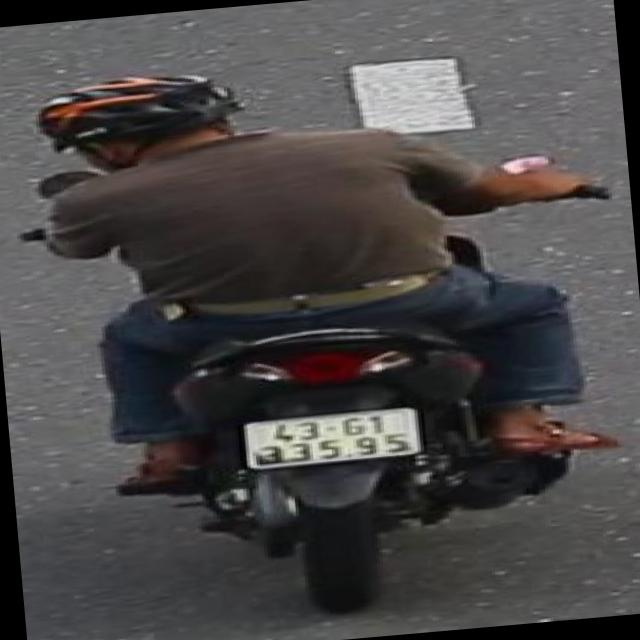LP: (237, 399, 428, 474)
helmet: (20, 60, 246, 175)
